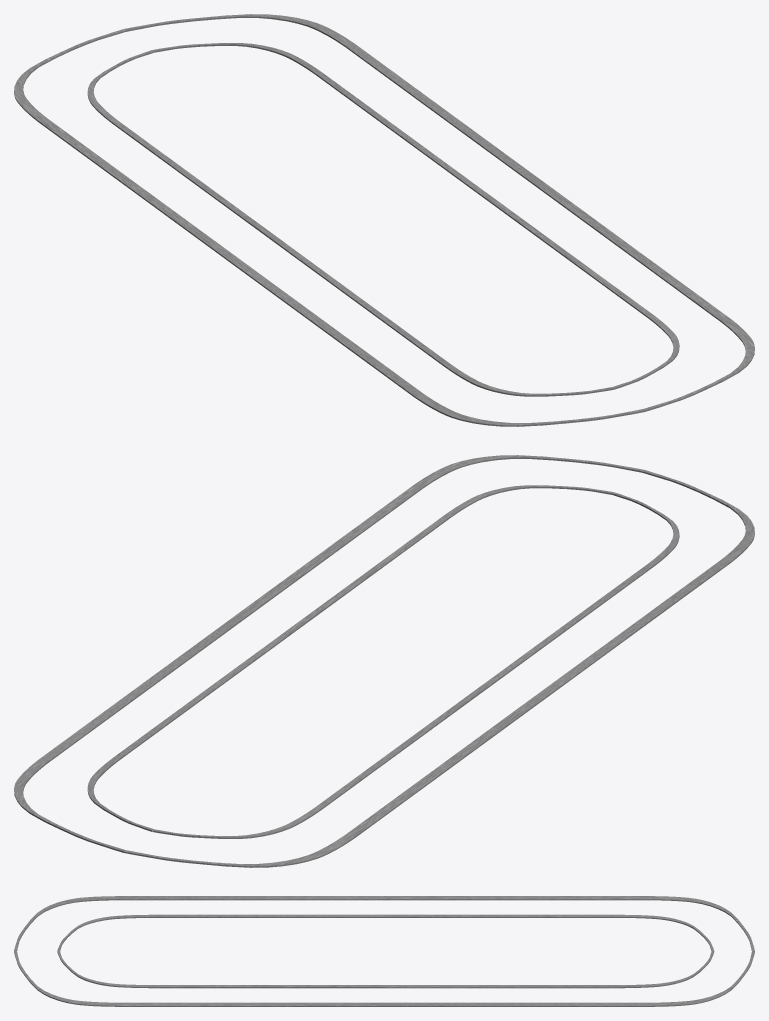
Rendered from axh_Track.fbx.
3 renders of one model, top to bottom at view 1: azimuth 30°, elevation 25°; view 2: azimuth 150°, elevation 25°; view 3: azimuth 270°, elevation 25°, orthographic. The views are drawn at different scales.
Visible parts, largest first — view 1: track; view 2: track; view 3: track.
Part boxes in pixels (x1=…): track: x1=14, y1=14, x2=754, y2=426; track: x1=14, y1=455, x2=754, y2=867; track: x1=14, y1=896, x2=754, y2=1006.
Bounding box in the file's own units: 44.66 × 0.1992 × 127.
